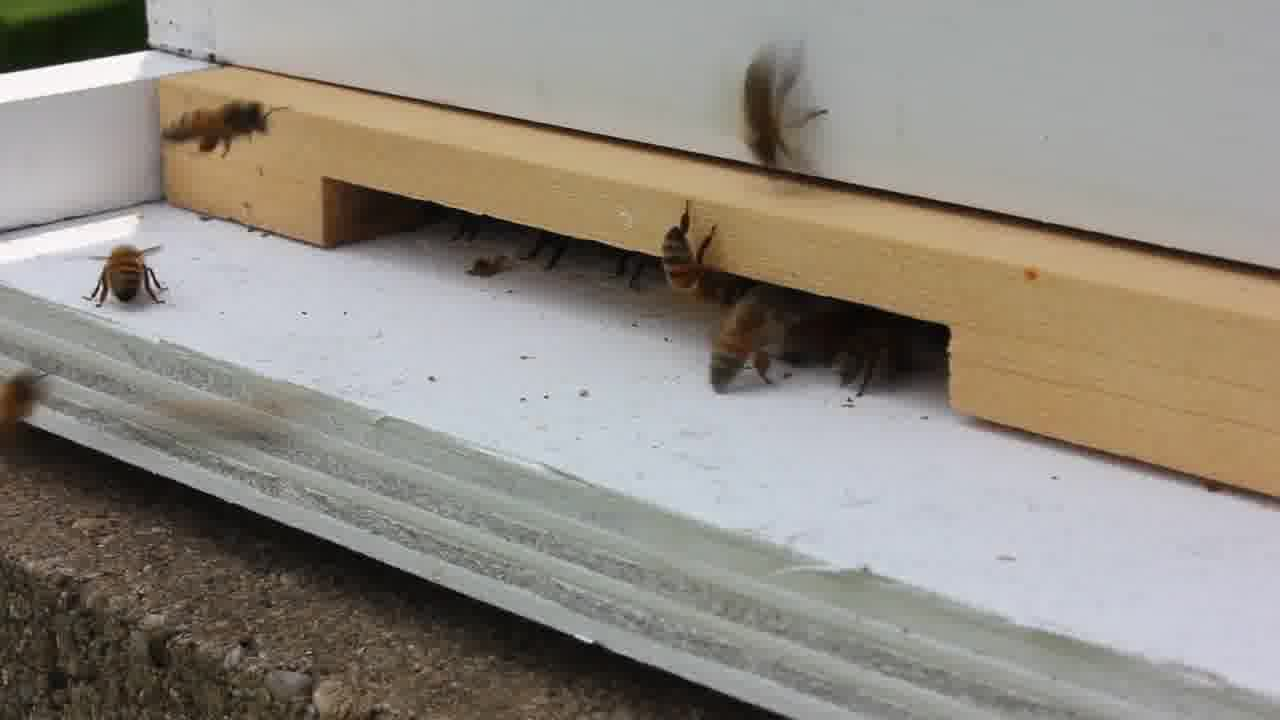pollen: (705, 290, 785, 396)
